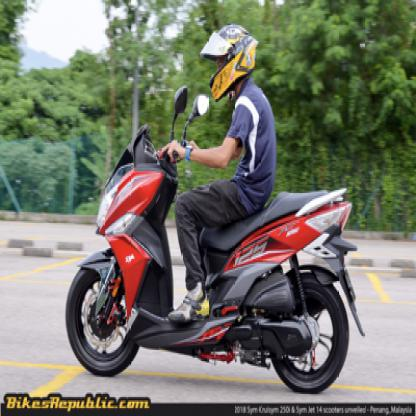Helmet: (193, 22, 263, 102)
